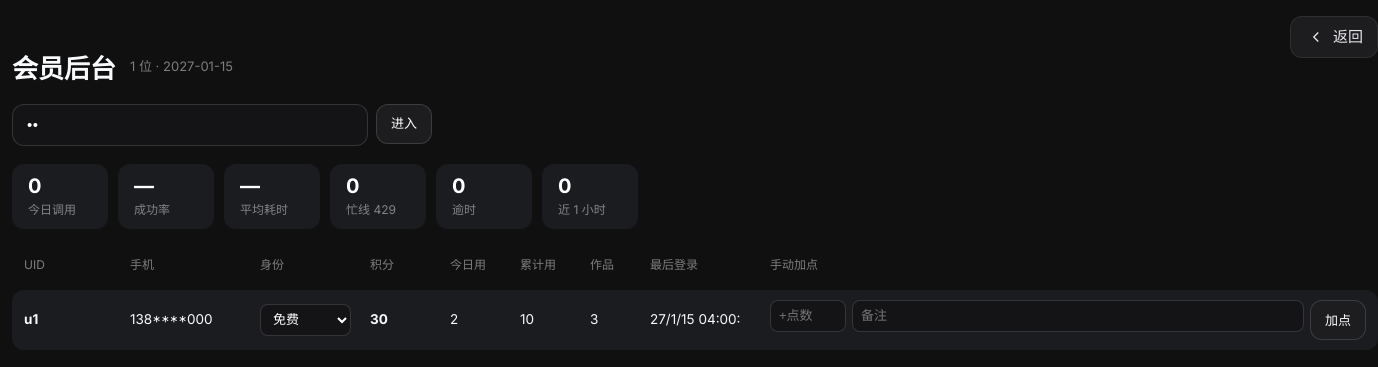
Test: 会员后台：真实交互 › 加点：POST /admin/points 体为 {uid,delta,note}；成功后 toast 带正负号并重新读取用户
Type "5" into the number field with placeholder "+点数" at [808, 316], box [770,300,846,332]
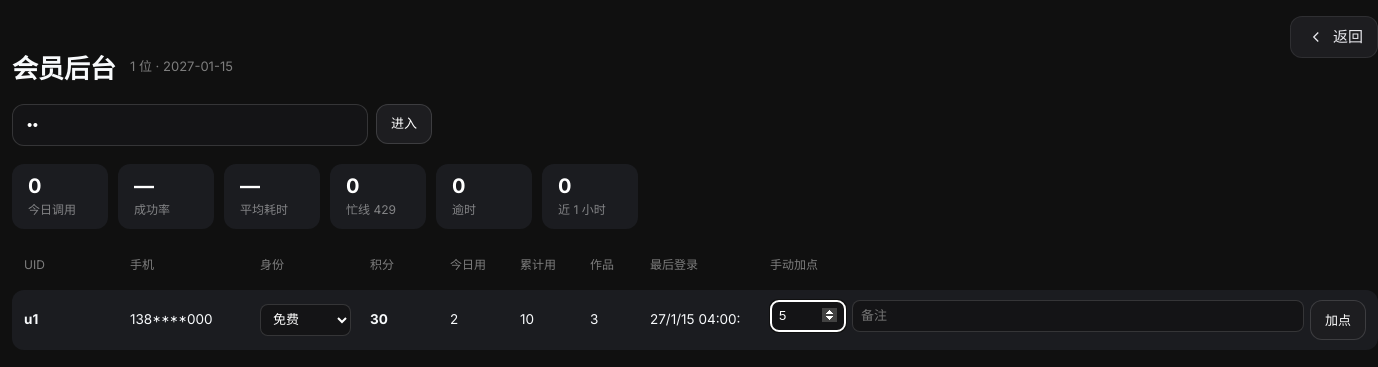
Type "活动" into the field with placeholder "备注" at [1078, 316], box [852,300,1304,332]
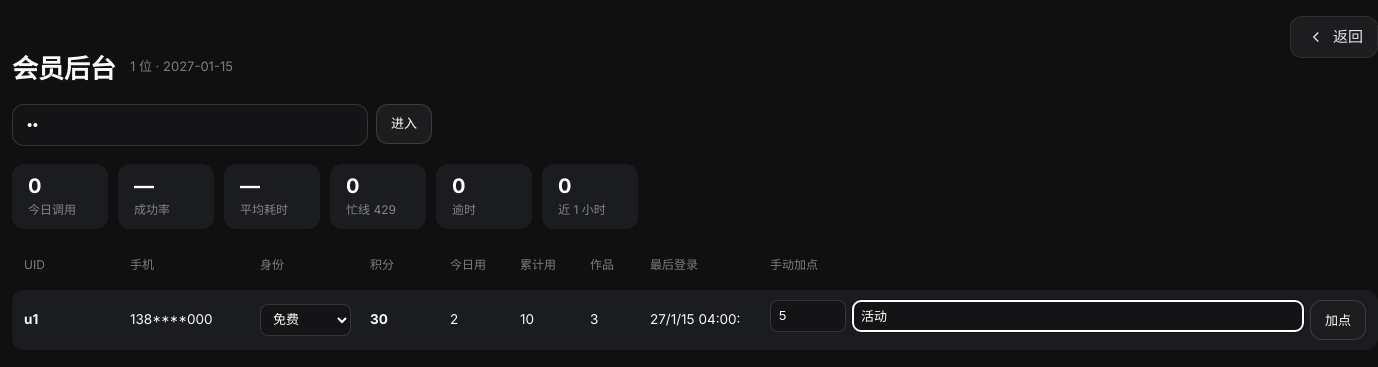
Click the button "加点" at [1338, 320], box [1310,300,1366,340]
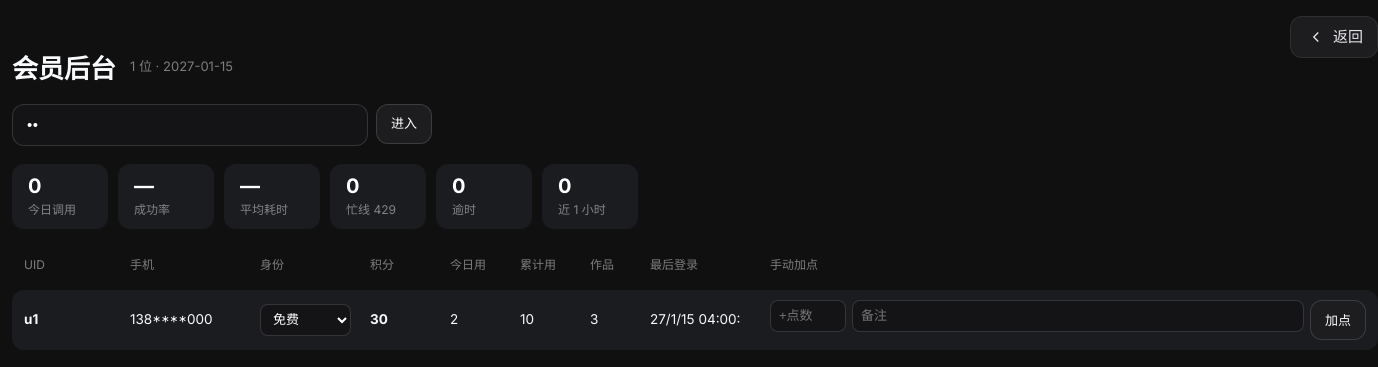
Result: the number field with placeholder "+点数" is empty at [770,300,846,332]
